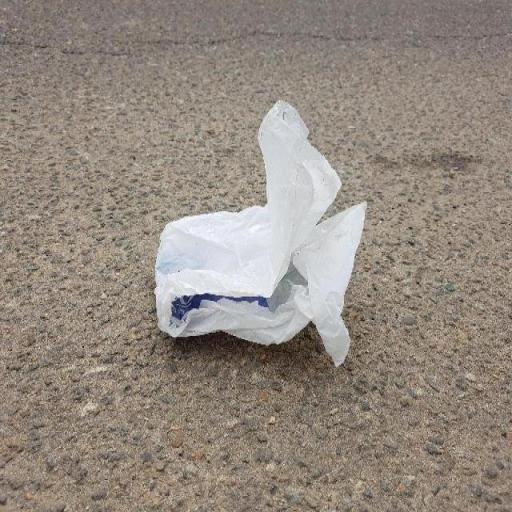plastic-bag: (152, 94, 368, 371)
